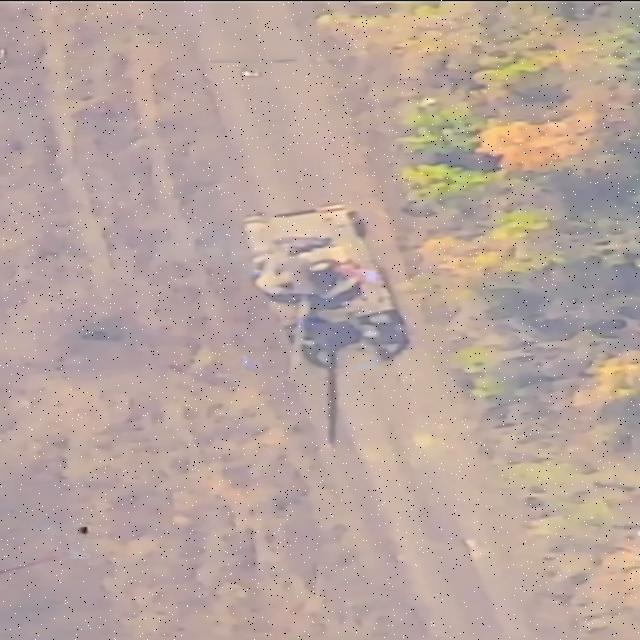MBT: (238, 203, 408, 381)
